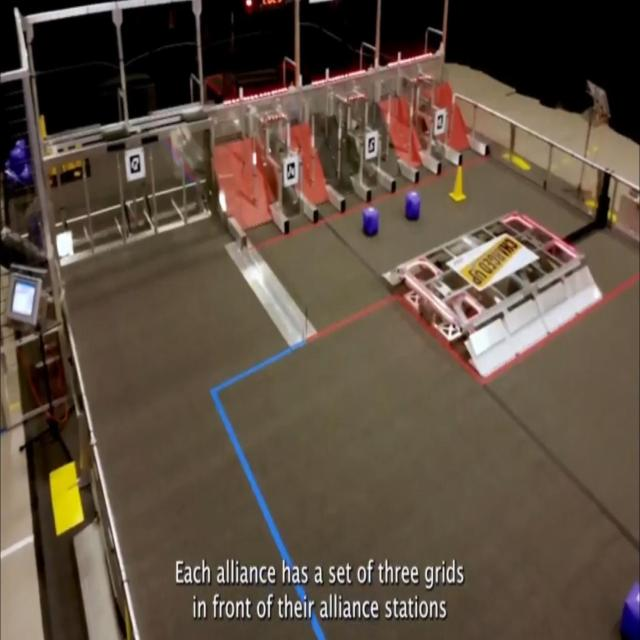frc_cone: (450, 165, 466, 202), (9, 147, 25, 175), (17, 162, 33, 183), (4, 168, 18, 185), (38, 113, 46, 139), (16, 139, 27, 153)
frc_cube: (621, 581, 640, 639), (362, 208, 380, 235), (404, 190, 419, 222)
